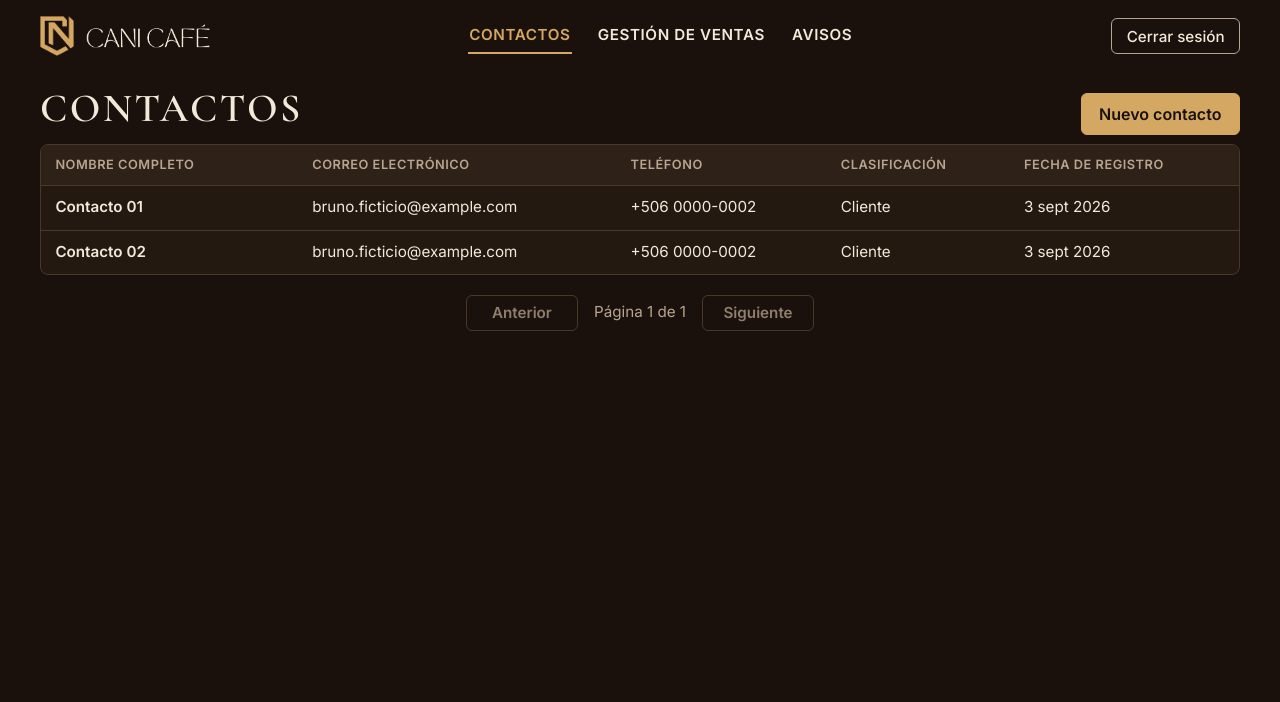
Test: HU-207 Consultar la ficha de un contacto › criterio 1: la ficha se abre al dar clic sobre el contacto en la lista
The image size is (1280, 702).
Expected: the table is shown, [41,145,1239,274]
Click the cell "+506 0000-0002" in the row of "Contacto 02". click: [721, 252]
box: [616,230,826,274]
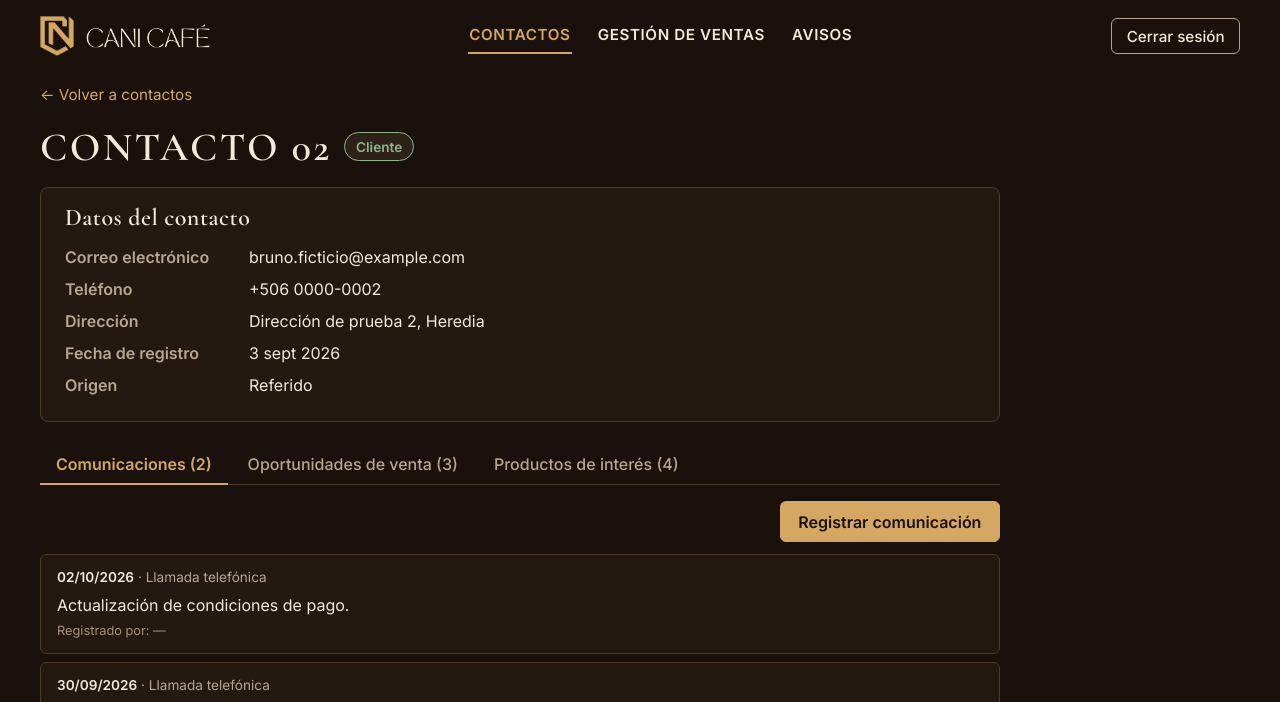
Expected: the heading "Contacto 02" is shown, [40,123,332,171]
